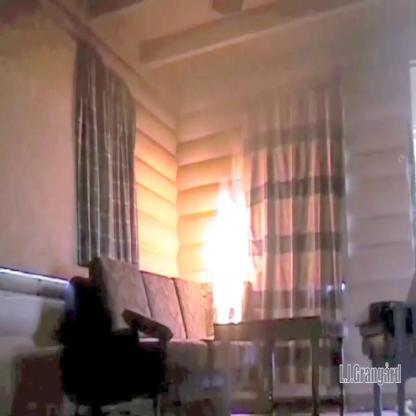fire: (196, 170, 266, 334)
